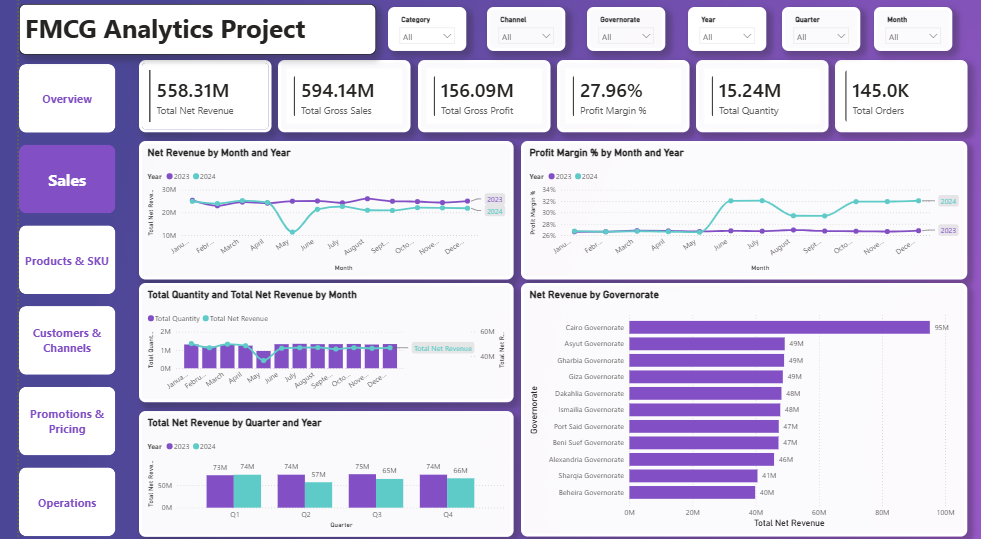

Layout of this report page (visuals, bound fields, positions):
{"tool":"powerbi","page":{"name":"Sales","canvas":[1600,900],"ordinal":1},"visuals":[{"type":"cardVisual","fields":{"Data":["_Measures.Total Net Revenue"]},"box":[199.4,104.3,220,120],"z":0},{"type":"cardVisual","fields":{"Data":["_Measures.Total Gross Sales"]},"box":[430.6,104.3,220,120],"z":1000},{"type":"cardVisual","fields":{"Data":["_Measures.Total Gross Profit"]},"box":[661.8,104.3,220,120],"z":2000},{"type":"cardVisual","fields":{"Data":["_Measures.Profit Margin %"]},"box":[893,104.3,220,120],"z":3000},{"type":"cardVisual","fields":{"Data":["_Measures.Total Quantity"]},"box":[1124.3,104.3,220,120],"z":4000},{"type":"cardVisual","fields":{"Data":["_Measures.Total Orders"]},"box":[1355.5,104.3,220,120],"z":5000},{"type":"lineChart","title":"Net Revenue by Month and Year","fields":{"Category":["dim_calender.Month"],"Series":["dim_calender.Year"],"Y":["_Measures.Total Net Revenue"]},"box":[199.4,239.6,622,230.5],"z":6000},{"type":"lineChart","fields":{"Category":["dim_calender.Month"],"Series":["dim_calender.Year"],"Y":["_Measures.Profit Margin %"]},"box":[834.1,239.6,740.9,230.5],"z":7000},{"type":"clusteredColumnChart","fields":{"Category":["dim_calender.Quarter"],"Series":["dim_calender.Year"],"Y":["_Measures.Total Net Revenue"]},"box":[199.4,687.8,622,208.5],"z":8000},{"type":"lineClusteredColumnComboChart","fields":{"Category":["dim_calender.Month"],"Y":["_Measures.Total Quantity"],"Y2":["_Measures.Total Net Revenue"]},"box":[199.4,475.6,622,197.6],"z":9000},{"type":"clusteredBarChart","title":"Net Revenue by Governorate","fields":{"Category":["dim_customers.Governorate"],"Y":["_Measures.Total Net Revenue"]},"box":[834.1,475.6,740.9,420.7],"z":10000},{"type":"pageNavigator","box":[0,111.6,161,786.6],"z":10001},{"type":"slicer","fields":{"Values":["dim_calender.Year"]},"box":[1110.4,16.5,130.2,73.2],"z":10002},{"type":"slicer","fields":{"Values":["dim_calender.Quarter"]},"box":[1267.7,16.5,130.2,73.2],"z":10003},{"type":"slicer","fields":{"Values":["dim_calender.Month"]},"box":[1419.5,16.5,130.2,73.2],"z":10004},{"type":"slicer","fields":{"Values":["dim_customers.Governorate"]},"box":[943.9,16.5,130.2,73.2],"z":10005},{"type":"slicer","fields":{"Values":["dim_channels.ChannelName"]},"box":[777.4,16.5,130.2,73.2],"z":10006},{"type":"slicer","fields":{"Values":["dim_products.Category"]},"box":[612.8,16.5,130.2,73.2],"z":10007},{"type":"textbox","box":[0,11,592.7,84.1],"z":10008}]}

Visuals, with their boxes in screenshot pixels (x1, y1, x2, y2), scaled from the page's 1600x900 canvas onto the 981x539 screenshot:
cardVisual - _Measures.Total Net Revenue: 122/62/257/134
cardVisual - _Measures.Total Gross Sales: 264/62/399/134
cardVisual - _Measures.Total Gross Profit: 406/62/541/134
cardVisual - _Measures.Profit Margin %: 548/62/682/134
cardVisual - _Measures.Total Quantity: 689/62/824/134
cardVisual - _Measures.Total Orders: 831/62/966/134
"Net Revenue by Month and Year" lineChart: 122/143/504/282
lineChart - dim_calender.Month x dim_calender.Year: 511/143/966/282
clusteredColumnChart - dim_calender.Quarter x dim_calender.Year: 122/412/504/537
lineClusteredColumnComboChart - dim_calender.Month x _Measures.Total Quantity: 122/285/504/403
"Net Revenue by Governorate" clusteredBarChart: 511/285/966/537
pageNavigator: 0/67/99/538
slicer - dim_calender.Year: 681/10/761/54
slicer - dim_calender.Quarter: 777/10/857/54
slicer - dim_calender.Month: 870/10/950/54
slicer - dim_customers.Governorate: 579/10/659/54
slicer - dim_channels.ChannelName: 477/10/556/54
slicer - dim_products.Category: 376/10/456/54
textbox: 0/7/363/57
